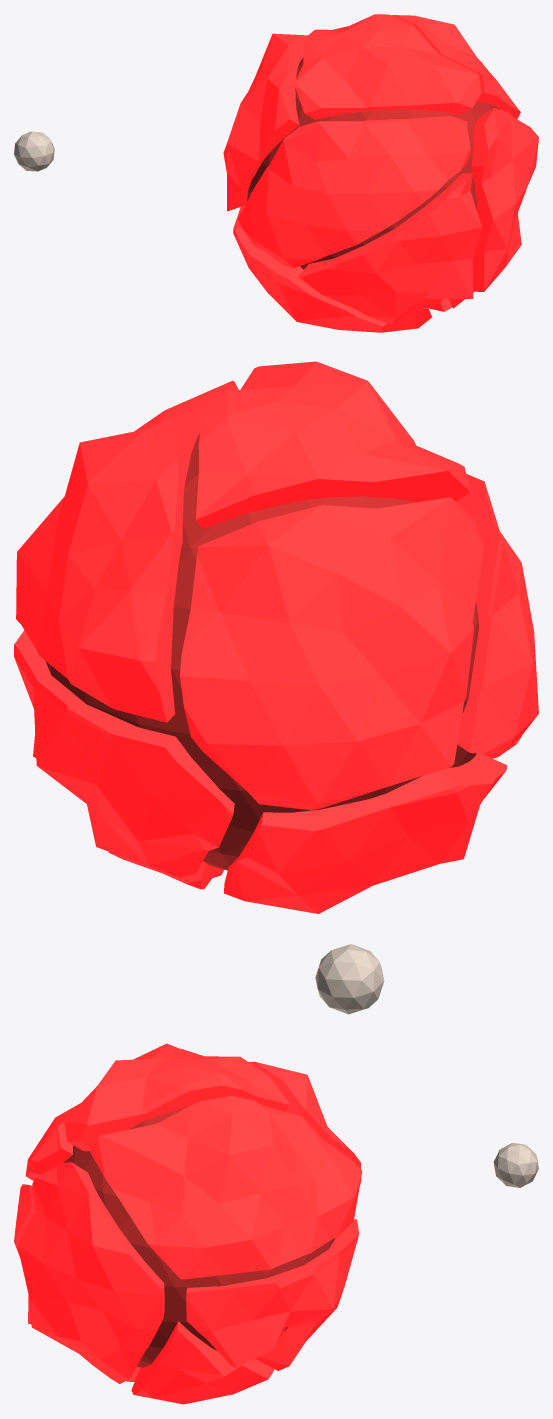
Rendered from planet_5(animated_moon).fbx.
The picture shows the model from 3 angles, top to bottom: view 1: azimuth 30°, elevation 25°; view 2: azimuth 150°, elevation 25°; view 3: azimuth 270°, elevation 25°; orthographic projection. The views are drawn at different scales.
Parts seen in each view (by area): view 1: planet_5, planet_5_moon; view 2: planet_5, planet_5_moon; view 3: planet_5, planet_5_moon.
Part boxes in pixels (left/top/right/bottom): planet_5: left=223, top=14, right=538, bottom=332; planet_5_moon: left=14, top=131, right=54, bottom=171; planet_5: left=14, top=361, right=538, bottom=913; planet_5_moon: left=315, top=944, right=384, bottom=1014; planet_5: left=14, top=1043, right=362, bottom=1404; planet_5_moon: left=493, top=1143, right=538, bottom=1187.
Size of the model in its own units: 247 by 194 by 297.
